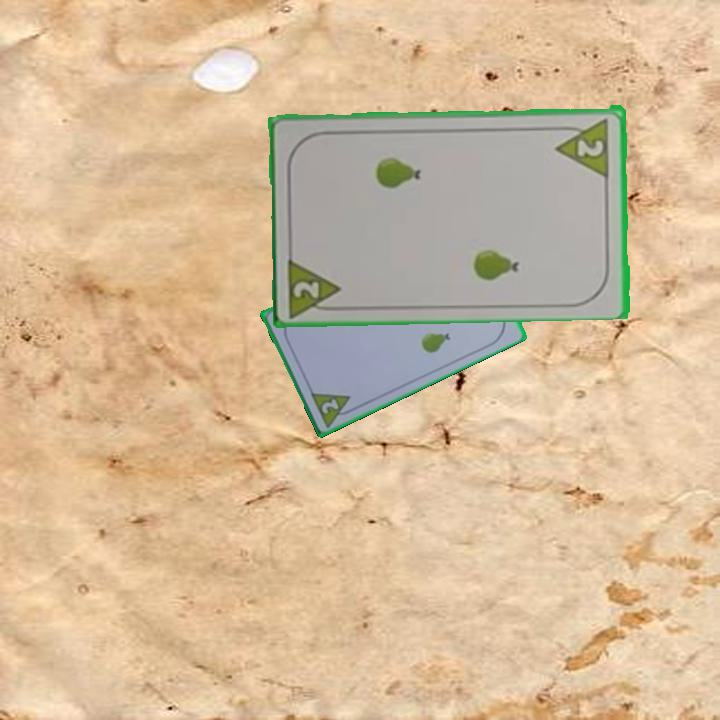2p: (284, 253, 346, 318), (307, 387, 360, 429), (573, 135, 606, 159)
